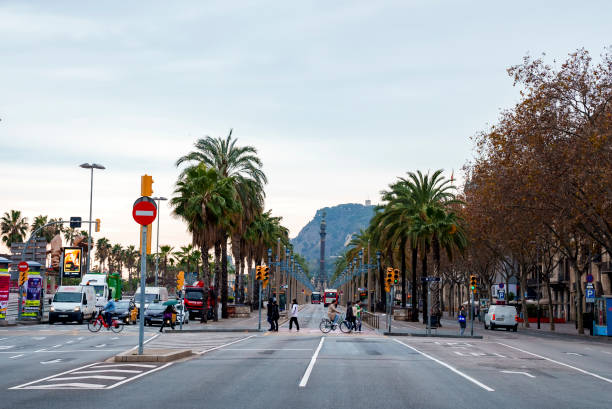Girilmez: (126, 198, 159, 226)
